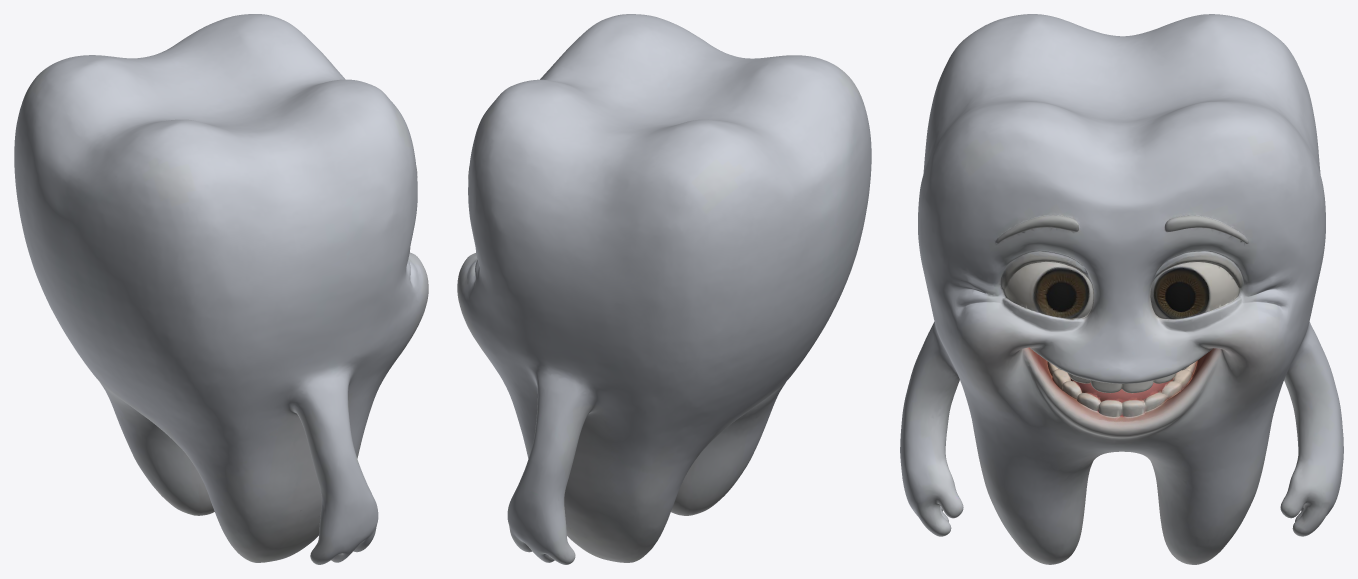
The model's file is glbData_1780604955583_2gsbe.glb.
The picture shows the model from 3 angles, left to right: view 1: azimuth 30°, elevation 25°; view 2: azimuth 150°, elevation 25°; view 3: azimuth 270°, elevation 25°; orthographic projection. The views are drawn at different scales.
Visible parts, largest first — view 1: tripo_node_68a28e15-5a5d-4158-86b5-43e376d446b3; view 2: tripo_node_68a28e15-5a5d-4158-86b5-43e376d446b3; view 3: tripo_node_68a28e15-5a5d-4158-86b5-43e376d446b3.
Part boxes in pixels (x1,y1,x2,y2): tripo_node_68a28e15-5a5d-4158-86b5-43e376d446b3: (14, 14, 428, 564); tripo_node_68a28e15-5a5d-4158-86b5-43e376d446b3: (457, 14, 871, 564); tripo_node_68a28e15-5a5d-4158-86b5-43e376d446b3: (900, 14, 1343, 564).
Size of the model in its own units: 0.1122 by 0.15 by 0.1235.
Materials: 1 (1 with a texture image).
